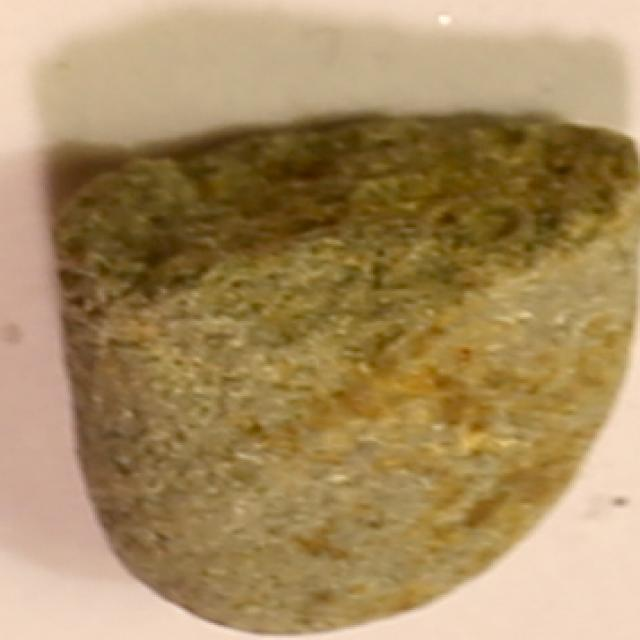stone: (50, 114, 640, 640)
